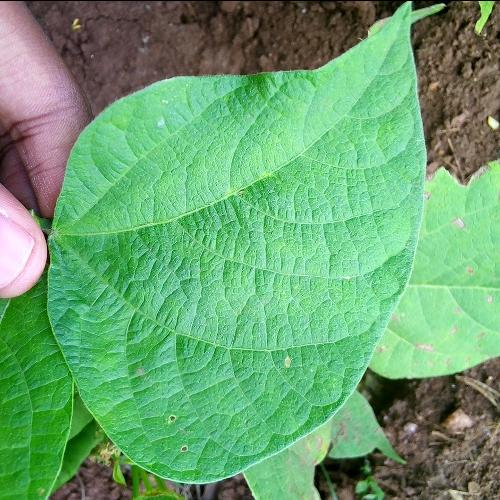embun tepung: (143, 92, 177, 143)
hawar: (160, 402, 191, 458), (277, 352, 295, 374)
mozaik: (362, 49, 400, 230)
sehat: (195, 120, 338, 308)
